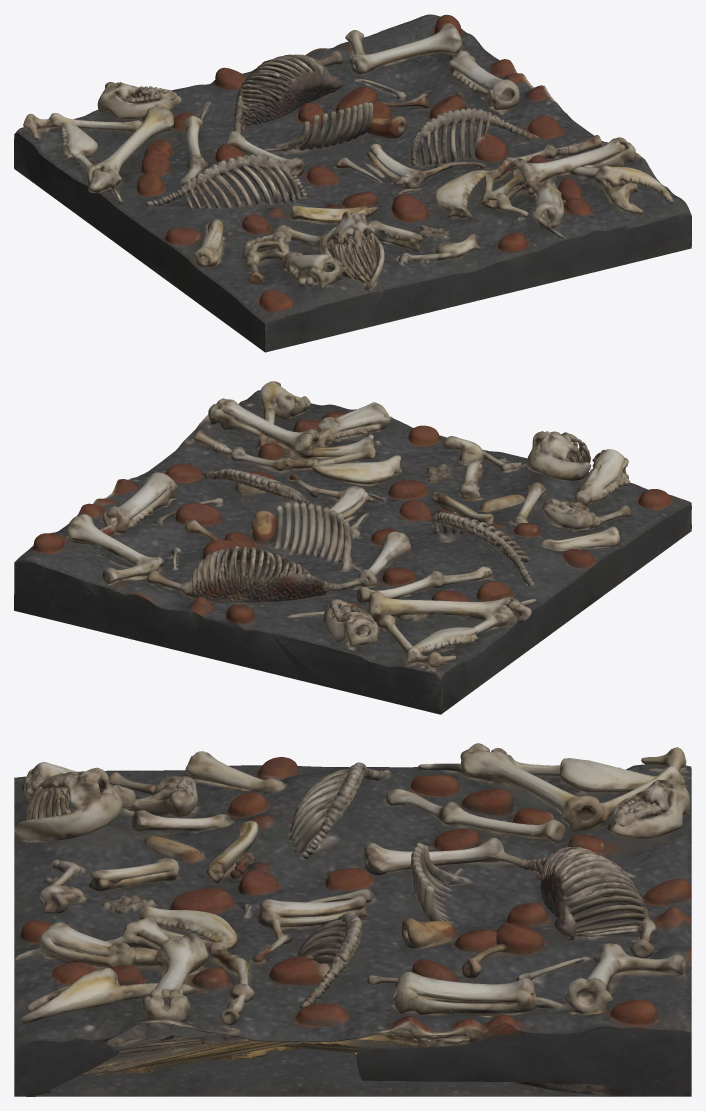
The model's file is Bone_RoomFloorTile_opt.glb.
3 renders of one model, top to bottom at view 1: azimuth 30°, elevation 25°; view 2: azimuth 150°, elevation 25°; view 3: azimuth 270°, elevation 25°, orthographic. The views are drawn at different scales.
Parts seen in each view (by area): view 1: material; view 2: material; view 3: material.
Part boxes in pixels (<box>): material: <box>14,14,691,352</box>; material: <box>14,381,691,714</box>; material: <box>14,743,691,1096</box>.
Bounding box in the file's own units: 0.8414 × 0.168 × 0.8425.
Materials: 1 (1 with a texture image).
